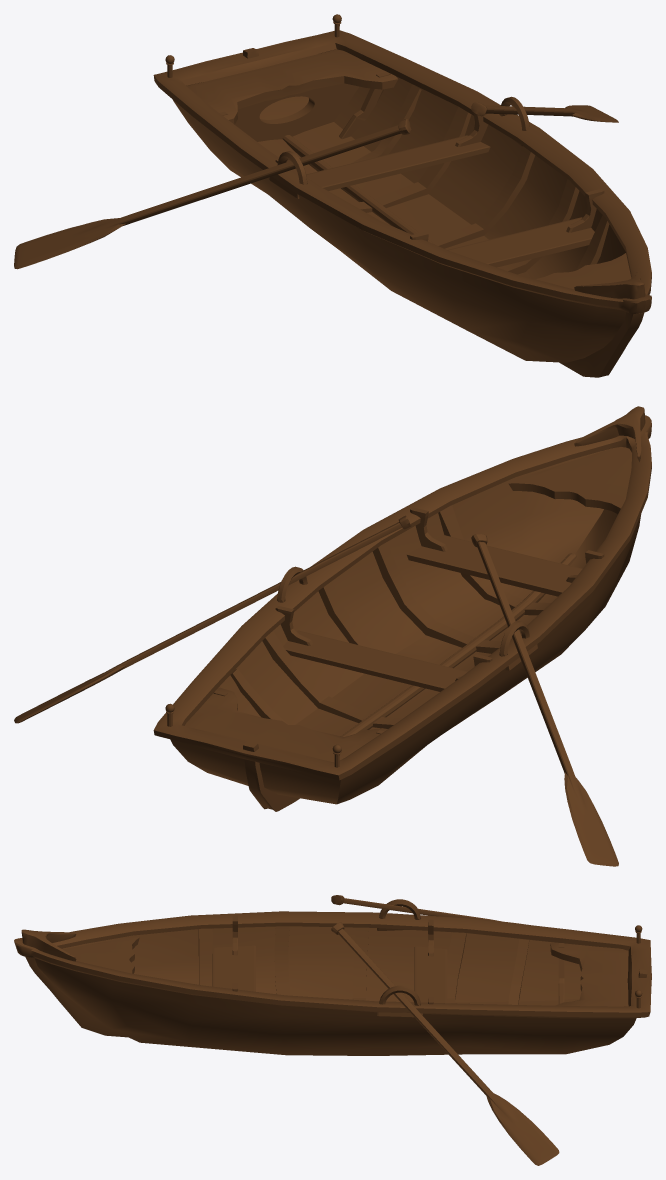
The model's file is BoatFBX.fbx.
3 views of the same model, one above another, from view 1: azimuth 30°, elevation 25°; view 2: azimuth 150°, elevation 25°; view 3: azimuth 270°, elevation 25° (orthographic). The views are drawn at different scales.
Parts seen in each view (by area): view 1: Retopo_Cube.006; view 2: Retopo_Cube.006; view 3: Retopo_Cube.006.
Boxes of the visible parts, bbox=[...] form: Retopo_Cube.006: bbox=[14, 14, 651, 377]; Retopo_Cube.006: bbox=[14, 406, 651, 866]; Retopo_Cube.006: bbox=[14, 895, 651, 1165].
Size of the model in its own units: 964 by 268 by 1109.
